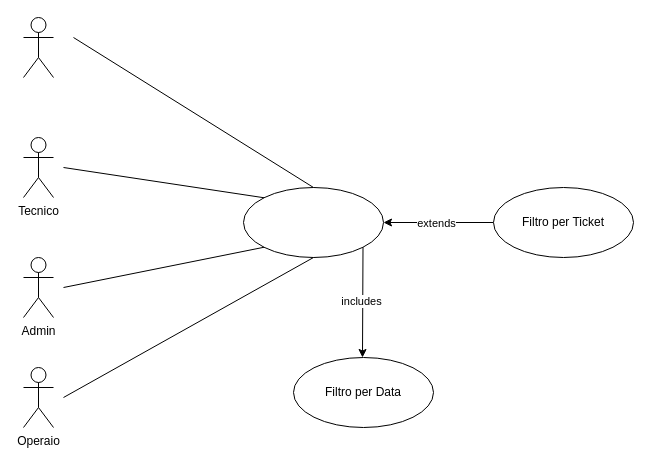
The diagram is 651 pixels wide and 466 high, and some of its shapes have lost their labels. Here are the shapes that lost their labels. From the top down, the centre of each, then its label:
(38,47): User
(313,222): Archivio Ticket Conclusi
